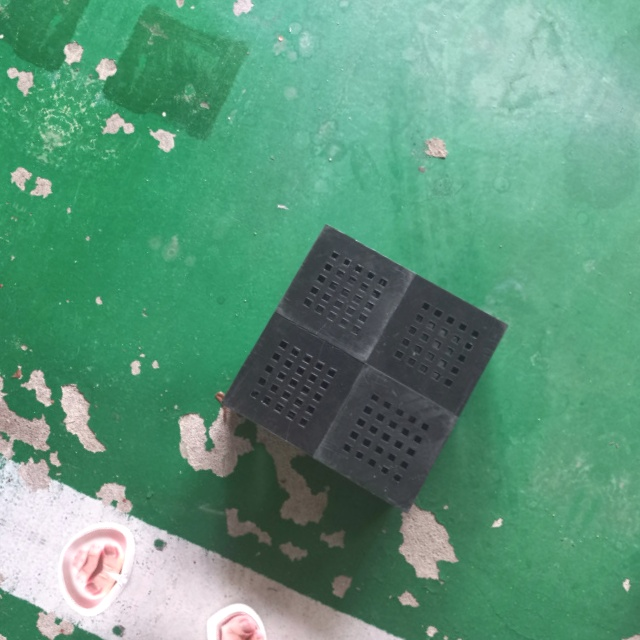pallet: (207, 216, 515, 524)
